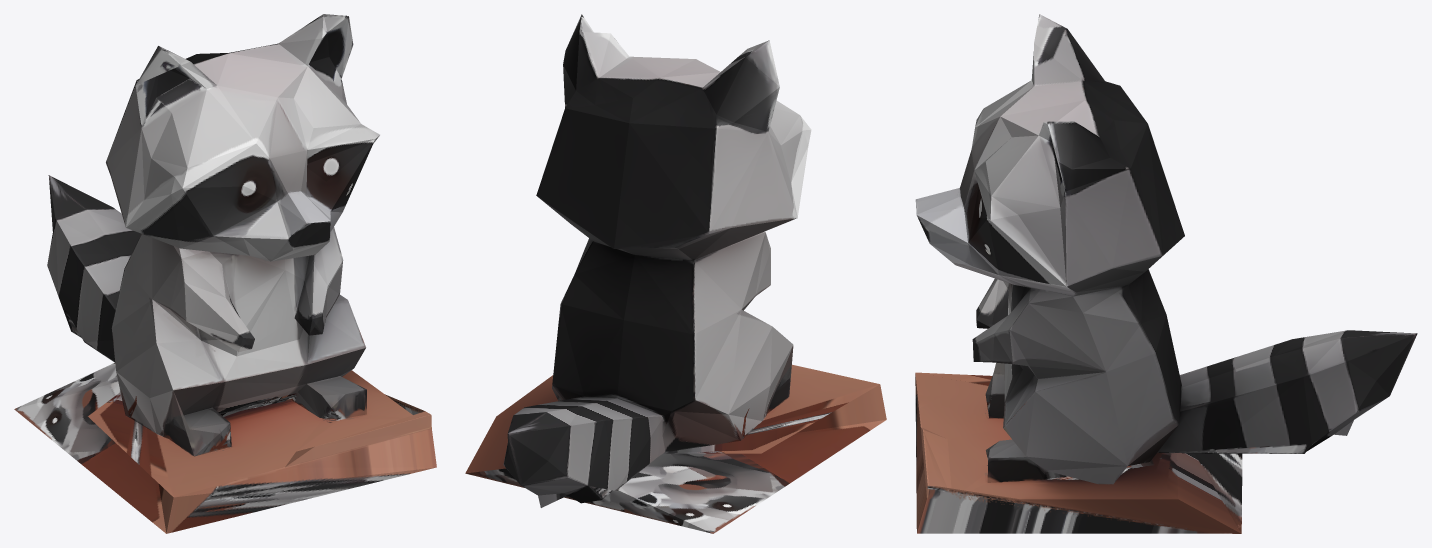
The picture shows the model from 3 angles, left to right: view 1: azimuth 30°, elevation 25°; view 2: azimuth 150°, elevation 25°; view 3: azimuth 270°, elevation 25°; orthographic projection. The views are drawn at different scales.
Visible parts, largest first — view 1: Figure; view 2: Figure; view 3: Figure.
Part boxes in pixels (x1,y1,x2,y2): Figure: (14,14,436,533); Figure: (465,14,886,533); Figure: (915,14,1417,533).
Bounding box in the file's own units: 0.43 × 0.6449 × 0.702.
Materials: 1 (1 with a texture image).
